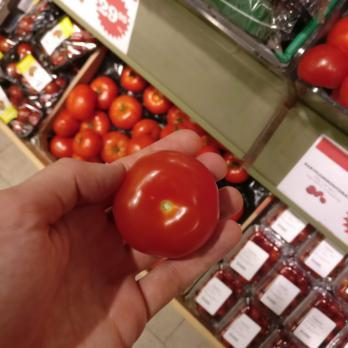Tomato: (111, 150, 223, 261)
